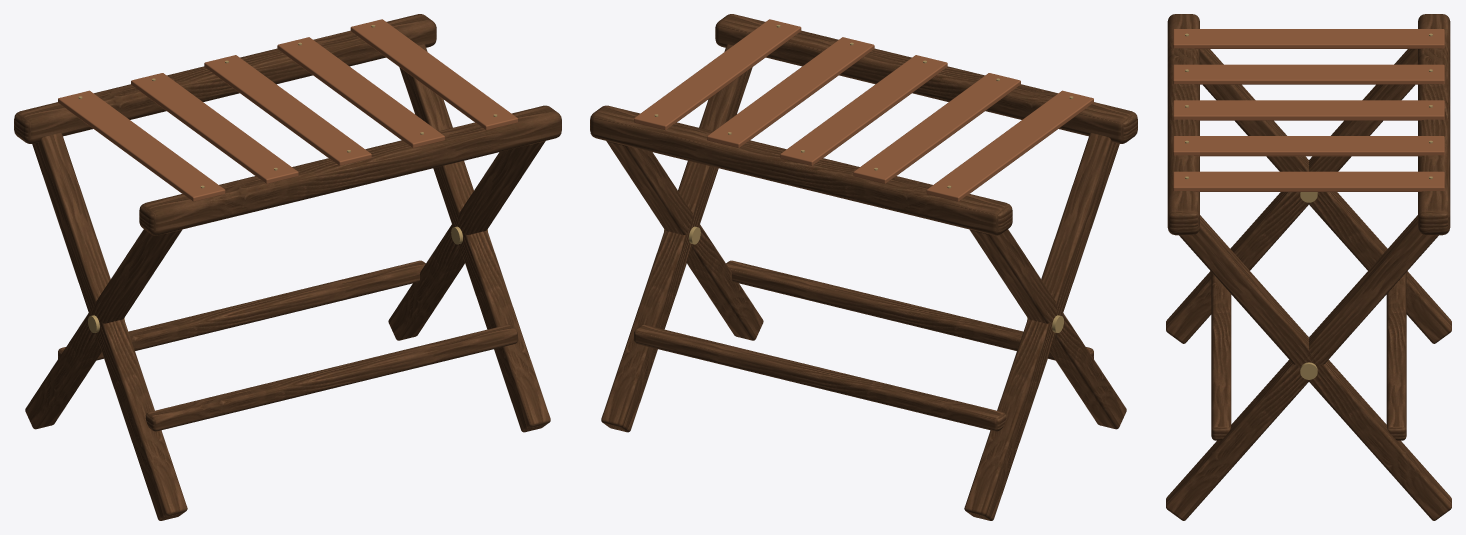
Rendered from residential-luggage-rack.glb.
3 renders of one model, left to right at view 1: azimuth 30°, elevation 25°; view 2: azimuth 150°, elevation 25°; view 3: azimuth 270°, elevation 25°, orthographic.
Parts seen in each view (by area): view 1: walnut_surfaces, leather_surfaces; view 2: walnut_surfaces, leather_surfaces; view 3: walnut_surfaces, leather_surfaces, bronze_surfaces.
Boxes of the visible parts, bbox=[...] form: walnut_surfaces: bbox=[14, 14, 561, 520]; leather_surfaces: bbox=[58, 19, 517, 201]; walnut_surfaces: bbox=[590, 14, 1137, 520]; leather_surfaces: bbox=[634, 19, 1093, 201]; walnut_surfaces: bbox=[1166, 14, 1451, 520]; leather_surfaces: bbox=[1173, 29, 1444, 191]; bronze_surfaces: bbox=[1185, 33, 1432, 379].
Bounding box in the file's own units: 0.76 × 0.5685 × 0.4571.
Materials: 3 (1 with a texture image).
